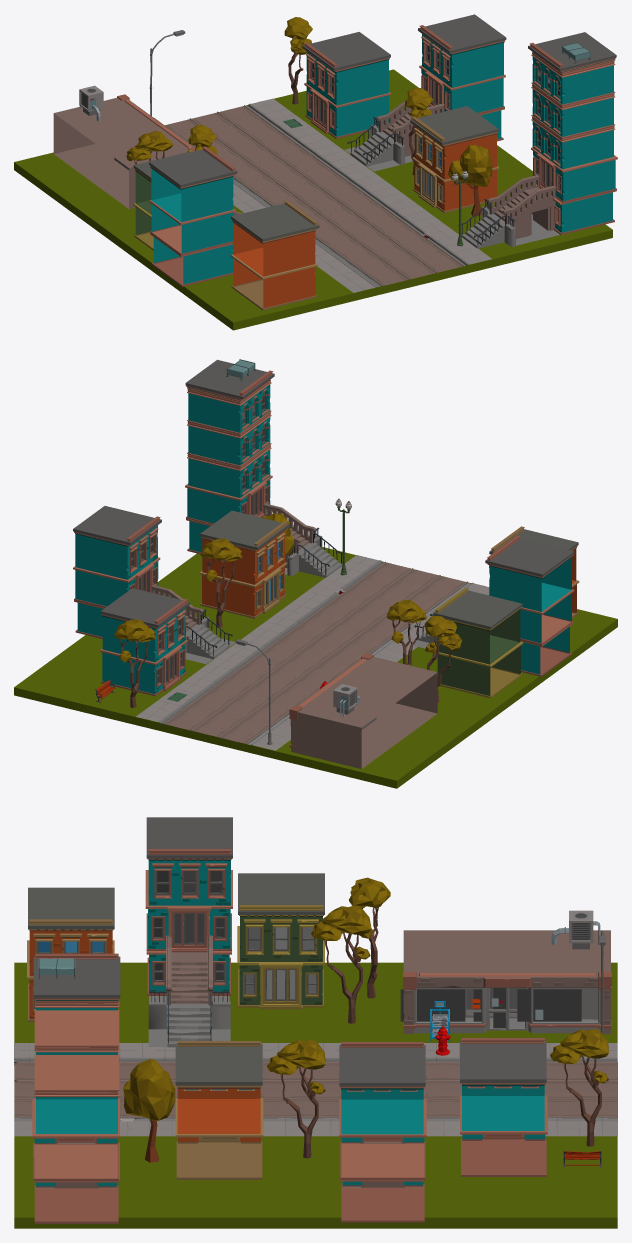
File: House Area 3.fbx
The picture shows the model from 3 angles, top to bottom: view 1: azimuth 30°, elevation 25°; view 2: azimuth 150°, elevation 25°; view 3: azimuth 270°, elevation 25°; orthographic projection. The views are drawn at different scales.
Visible parts, largest first — view 1: SM_Bld_Apartment_Roof_02.011, Plane.003, SM_Env_Path_Straight_01.002, SM_Bld_Apartment_01.004, SM_Bld_Apartment_01.005, SM_Prop_LightPole_Base_01.003, SM_Bld_Apartment_Roof_02.014, SM_Bld_Shop_03, SM_Bld_Apartment_Roof_02.012, SM_Bld_Apartment_Roof_02.013, SM_Env_Tree_03.007, SM_Bld_Apartment_Roof_02.015 (+5 smaller); view 2: Plane.003, SM_Env_Path_Straight_01.002, SM_Bld_Apartment_Roof_02.011, SM_Bld_Shop_03, SM_Bld_Apartment_01.004, SM_Prop_LightPole_Base_01.003, SM_Bld_Apartment_01.005, SM_Bld_Apartment_Roof_02.015, SM_Bld_Apartment_Roof_02.012, SM_Bld_Apartment_Roof_02.013, SM_Env_Tree_02.001, SM_Env_Tree_02.005 (+4 smaller); view 3: Plane.003, SM_Bld_Apartment_Roof_02.011, SM_Bld_Apartment_01.005, SM_Bld_Shop_03, SM_Bld_Apartment_01.004, SM_Bld_Apartment_Roof_02.013, SM_Bld_Apartment_Roof_02.012, SM_Bld_Apartment_Roof_02.015, SM_Env_Path_Straight_01.002, SM_Prop_LightPole_Base_01.003, SM_Bld_Apartment_Roof_02.014, SM_Bld_Shop_03_Glass (+7 smaller).
Boxes of the visible parts, x1,y1,x2,y2 form: SM_Bld_Apartment_Roof_02.011: [458, 32, 617, 248]; Plane.003: [14, 69, 612, 330]; SM_Env_Path_Straight_01.002: [165, 105, 463, 285]; SM_Bld_Apartment_01.004: [344, 14, 506, 171]; SM_Bld_Apartment_01.005: [149, 146, 242, 286]; SM_Prop_LightPole_Base_01.003: [149, 30, 491, 292]; SM_Bld_Apartment_Roof_02.014: [230, 200, 319, 310]; SM_Bld_Shop_03: [53, 94, 195, 208]; SM_Bld_Apartment_Roof_02.012: [302, 32, 391, 138]; SM_Bld_Apartment_Roof_02.013: [410, 106, 499, 213]; SM_Env_Tree_03.007: [448, 145, 492, 216]; SM_Bld_Apartment_Roof_02.015: [133, 149, 192, 250]; Plane.003: [14, 547, 617, 788]; SM_Env_Path_Straight_01.002: [164, 561, 467, 743]; SM_Bld_Apartment_Roof_02.011: [185, 359, 345, 577]; SM_Bld_Shop_03: [289, 653, 437, 768]; SM_Bld_Apartment_01.004: [73, 506, 235, 664]; SM_Prop_LightPole_Base_01.003: [136, 498, 489, 750]; SM_Bld_Apartment_01.005: [413, 535, 574, 676]; SM_Bld_Apartment_Roof_02.015: [433, 587, 523, 698]; SM_Bld_Apartment_Roof_02.012: [100, 588, 189, 696]; SM_Bld_Apartment_Roof_02.013: [199, 510, 289, 618]; SM_Env_Tree_02.001: [200, 538, 242, 627]; SM_Env_Tree_02.005: [114, 619, 155, 707]; Plane.003: [14, 962, 617, 1228]; SM_Bld_Apartment_Roof_02.011: [32, 953, 120, 1223]; SM_Bld_Apartment_01.005: [145, 817, 232, 1047]; SM_Bld_Shop_03: [403, 930, 611, 1033]; SM_Bld_Apartment_01.004: [339, 1042, 426, 1222]; SM_Bld_Apartment_Roof_02.013: [175, 1041, 263, 1179]; SM_Bld_Apartment_Roof_02.012: [460, 1038, 547, 1176]; SM_Bld_Apartment_Roof_02.015: [237, 873, 324, 1009]; SM_Env_Path_Straight_01.002: [14, 1062, 617, 1117]; SM_Prop_LightPole_Base_01.003: [14, 930, 617, 1136]; SM_Bld_Apartment_Roof_02.014: [27, 887, 114, 1021]; SM_Bld_Shop_03_Glass: [400, 988, 581, 1028].
Bounding box in the file's own units: 10425 × 4600 × 10007.
